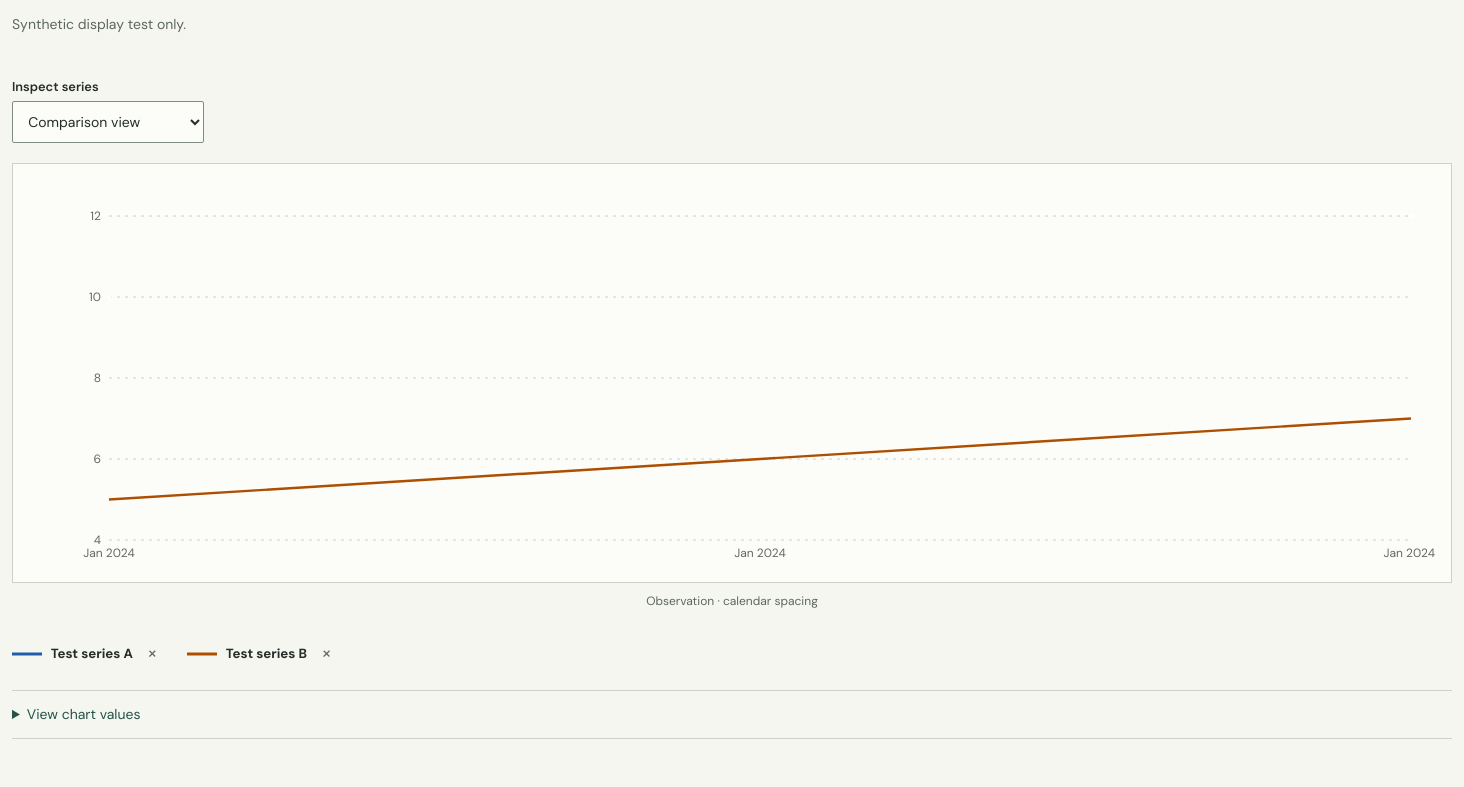
Test case: presentation components › exposes accessible source values for line charts
This screenshot has width=1464, height=787.
(page scrolled)
Click the heading "View chart values". click: [84, 714]
box: [27,705,140,723]
(page scrolled)
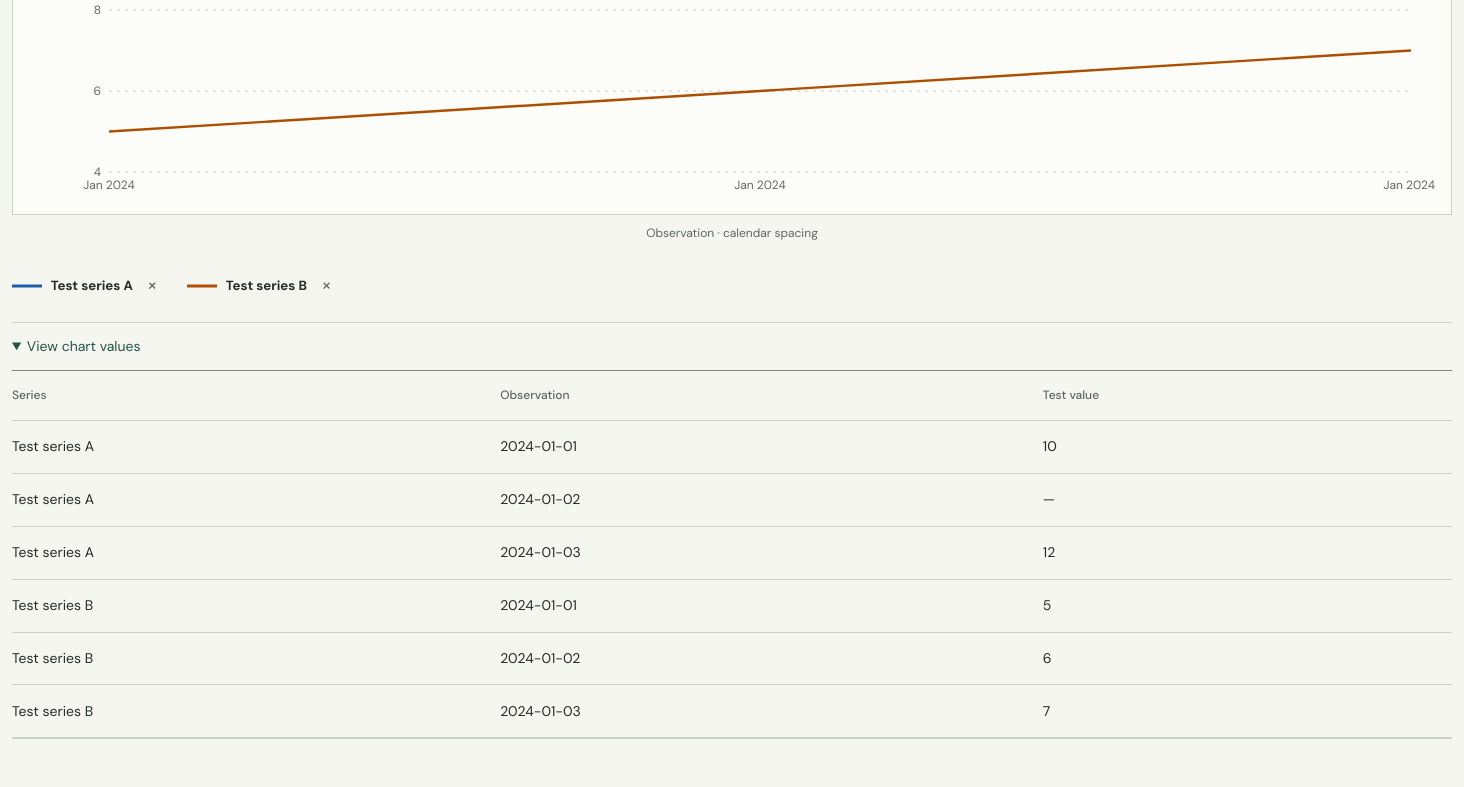
Check: the table is shown, box [12,370,1452,738]
